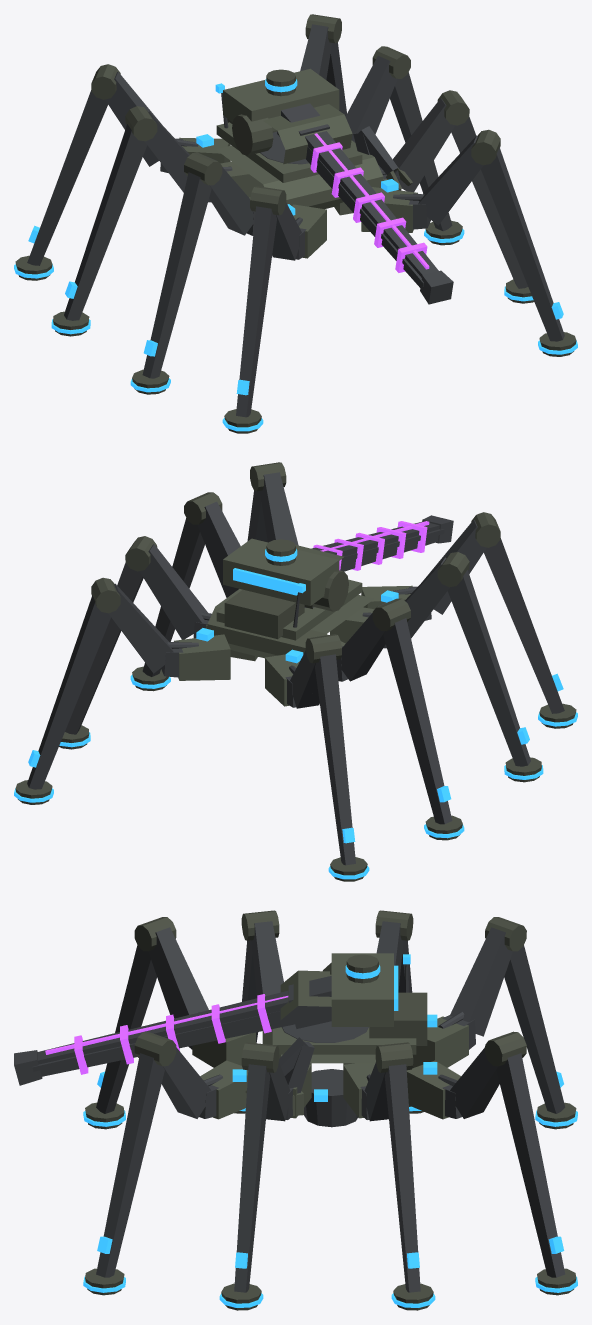
The model's file is heptapod.glb.
The picture shows the model from 3 angles, top to bottom: view 1: azimuth 30°, elevation 25°; view 2: azimuth 150°, elevation 25°; view 3: azimuth 270°, elevation 25°; orthographic projection. The views are drawn at different scales.
Parts seen in each view (by area): view 1: Tibia_2L, Tibia_3L, Tibia_1R, Barrel_Mesh, Tibia_1L, Sensor_Suite_Mesh, Tibia_4L, Hull_Mesh, Femur_2R, Turret_Mesh, Femur_1R, Femur_3R (+32 smaller); view 2: Tibia_3L, Tibia_2L, Tibia_4R, Tibia_4L, Sensor_Suite_Mesh, Tibia_1L, Hull_Mesh, Femur_3R, AICore_Mesh, Tibia_3R, Femur_4R, HipYoke_4R (+28 smaller); view 3: Barrel_Mesh, Tibia_4R, Tibia_1R, Tibia_2R, Tibia_3R, Sensor_Suite_Mesh, Tibia_4L, Femur_4L, Tibia_1L, Femur_1L, Reactor_Mesh, Femur_4R (+35 smaller).
Boxes of the visible parts, box(x1,y1,x2,y2) form: Tibia_2L: box(142, 172, 211, 378); Tibia_3L: box(64, 124, 147, 320); Tibia_1R: box(481, 147, 564, 341); Barrel_Mesh: box(305, 131, 438, 287); Tibia_1L: box(236, 206, 276, 417); Sensor_Suite_Mesh: box(223, 68, 339, 130); Tibia_4L: box(27, 90, 107, 265); Hull_Mesh: box(215, 140, 383, 209); Femur_2R: box(393, 98, 455, 192); Turret_Mesh: box(263, 104, 352, 164); Femur_1R: box(418, 135, 483, 225); Femur_3R: box(345, 56, 397, 141); Tibia_3L: box(383, 618, 452, 824); Tibia_2L: box(447, 570, 530, 766); Tibia_4R: box(27, 595, 110, 789); Tibia_4L: box(315, 654, 355, 865); Sensor_Suite_Mesh: box(223, 538, 339, 605); Tibia_1L: box(484, 538, 564, 713); Hull_Mesh: box(207, 589, 374, 658); Femur_3R: box(139, 544, 208, 639); AICore_Mesh: box(224, 589, 304, 639); Tibia_3R: box(65, 562, 143, 734); Femur_4R: box(108, 583, 173, 673); HipYoke_4R: box(174, 634, 230, 680); Barrel_Mesh: box(32, 991, 294, 1076); Tibia_4R: box(496, 1053, 565, 1277); Tibia_1R: box(96, 1053, 164, 1277); Tibia_2R: box(234, 1064, 270, 1292); Tibia_3R: box(384, 1064, 420, 1292); Sensor_Suite_Mesh: box(331, 953, 393, 1026); Tibia_4L: box(504, 945, 565, 1113); Femur_4L: box(450, 927, 512, 1036); Tibia_1L: box(96, 945, 156, 1113); Femur_1L: box(148, 927, 208, 1018); Reactor_Mesh: box(304, 1069, 357, 1127); Femur_4R: box(450, 1047, 499, 1118).
Bounding box in the file's own units: 4.74 × 2.51 × 5.26.
